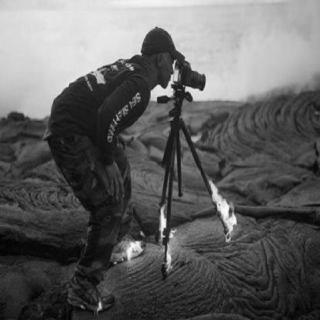Fire: (118, 231, 145, 263), (153, 201, 167, 243)
